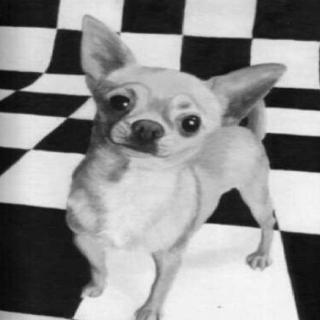dog: (71, 8, 296, 180)
nose: (130, 112, 169, 146)
